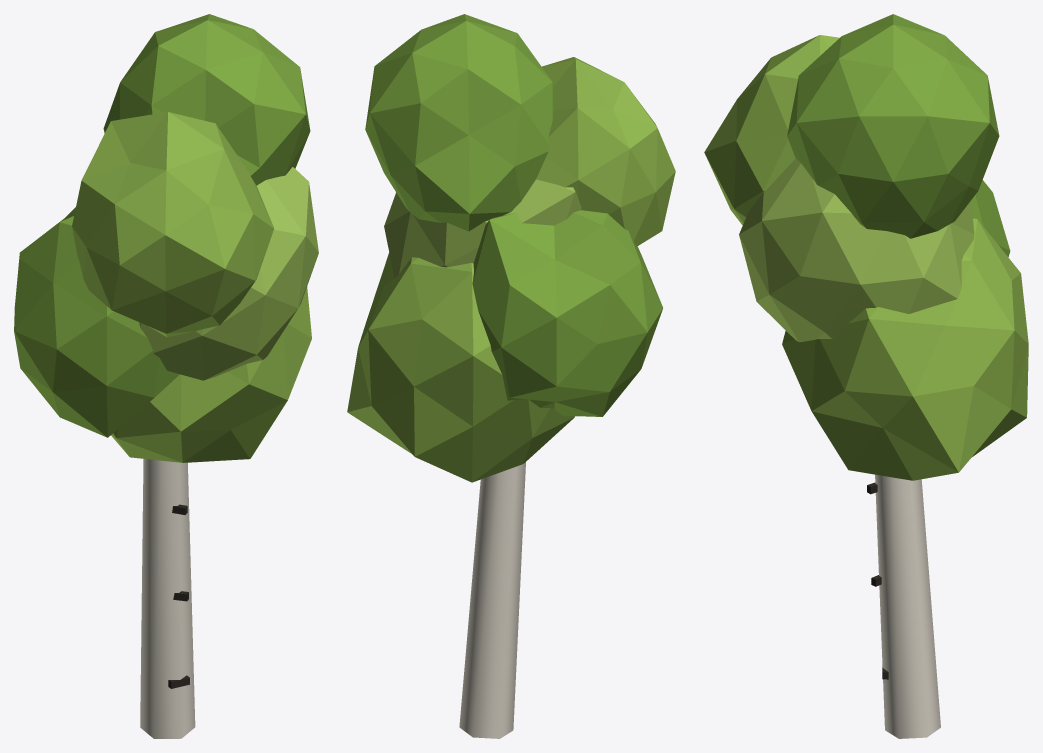
The model's file is tree_birch_1.glb.
3 renders of one model, left to right at view 1: azimuth 30°, elevation 25°; view 2: azimuth 150°, elevation 25°; view 3: azimuth 270°, elevation 25°, orthographic. The views are drawn at different scales.
Visible parts, largest first — view 1: crown, trunk; view 2: crown, trunk; view 3: crown, trunk.
Boxes of the visible parts, x1=… form: crown: x1=14, y1=14, x2=318, y2=462; trunk: x1=140, y1=459, x2=195, y2=738; crown: x1=347, y1=14, x2=675, y2=482; trunk: x1=459, y1=462, x2=525, y2=738; crown: x1=704, y1=14, x2=1028, y2=480; trunk: x1=867, y1=474, x2=940, y2=738.
Bounding box in the file's own units: 1.06 × 2.55 × 1.04.
